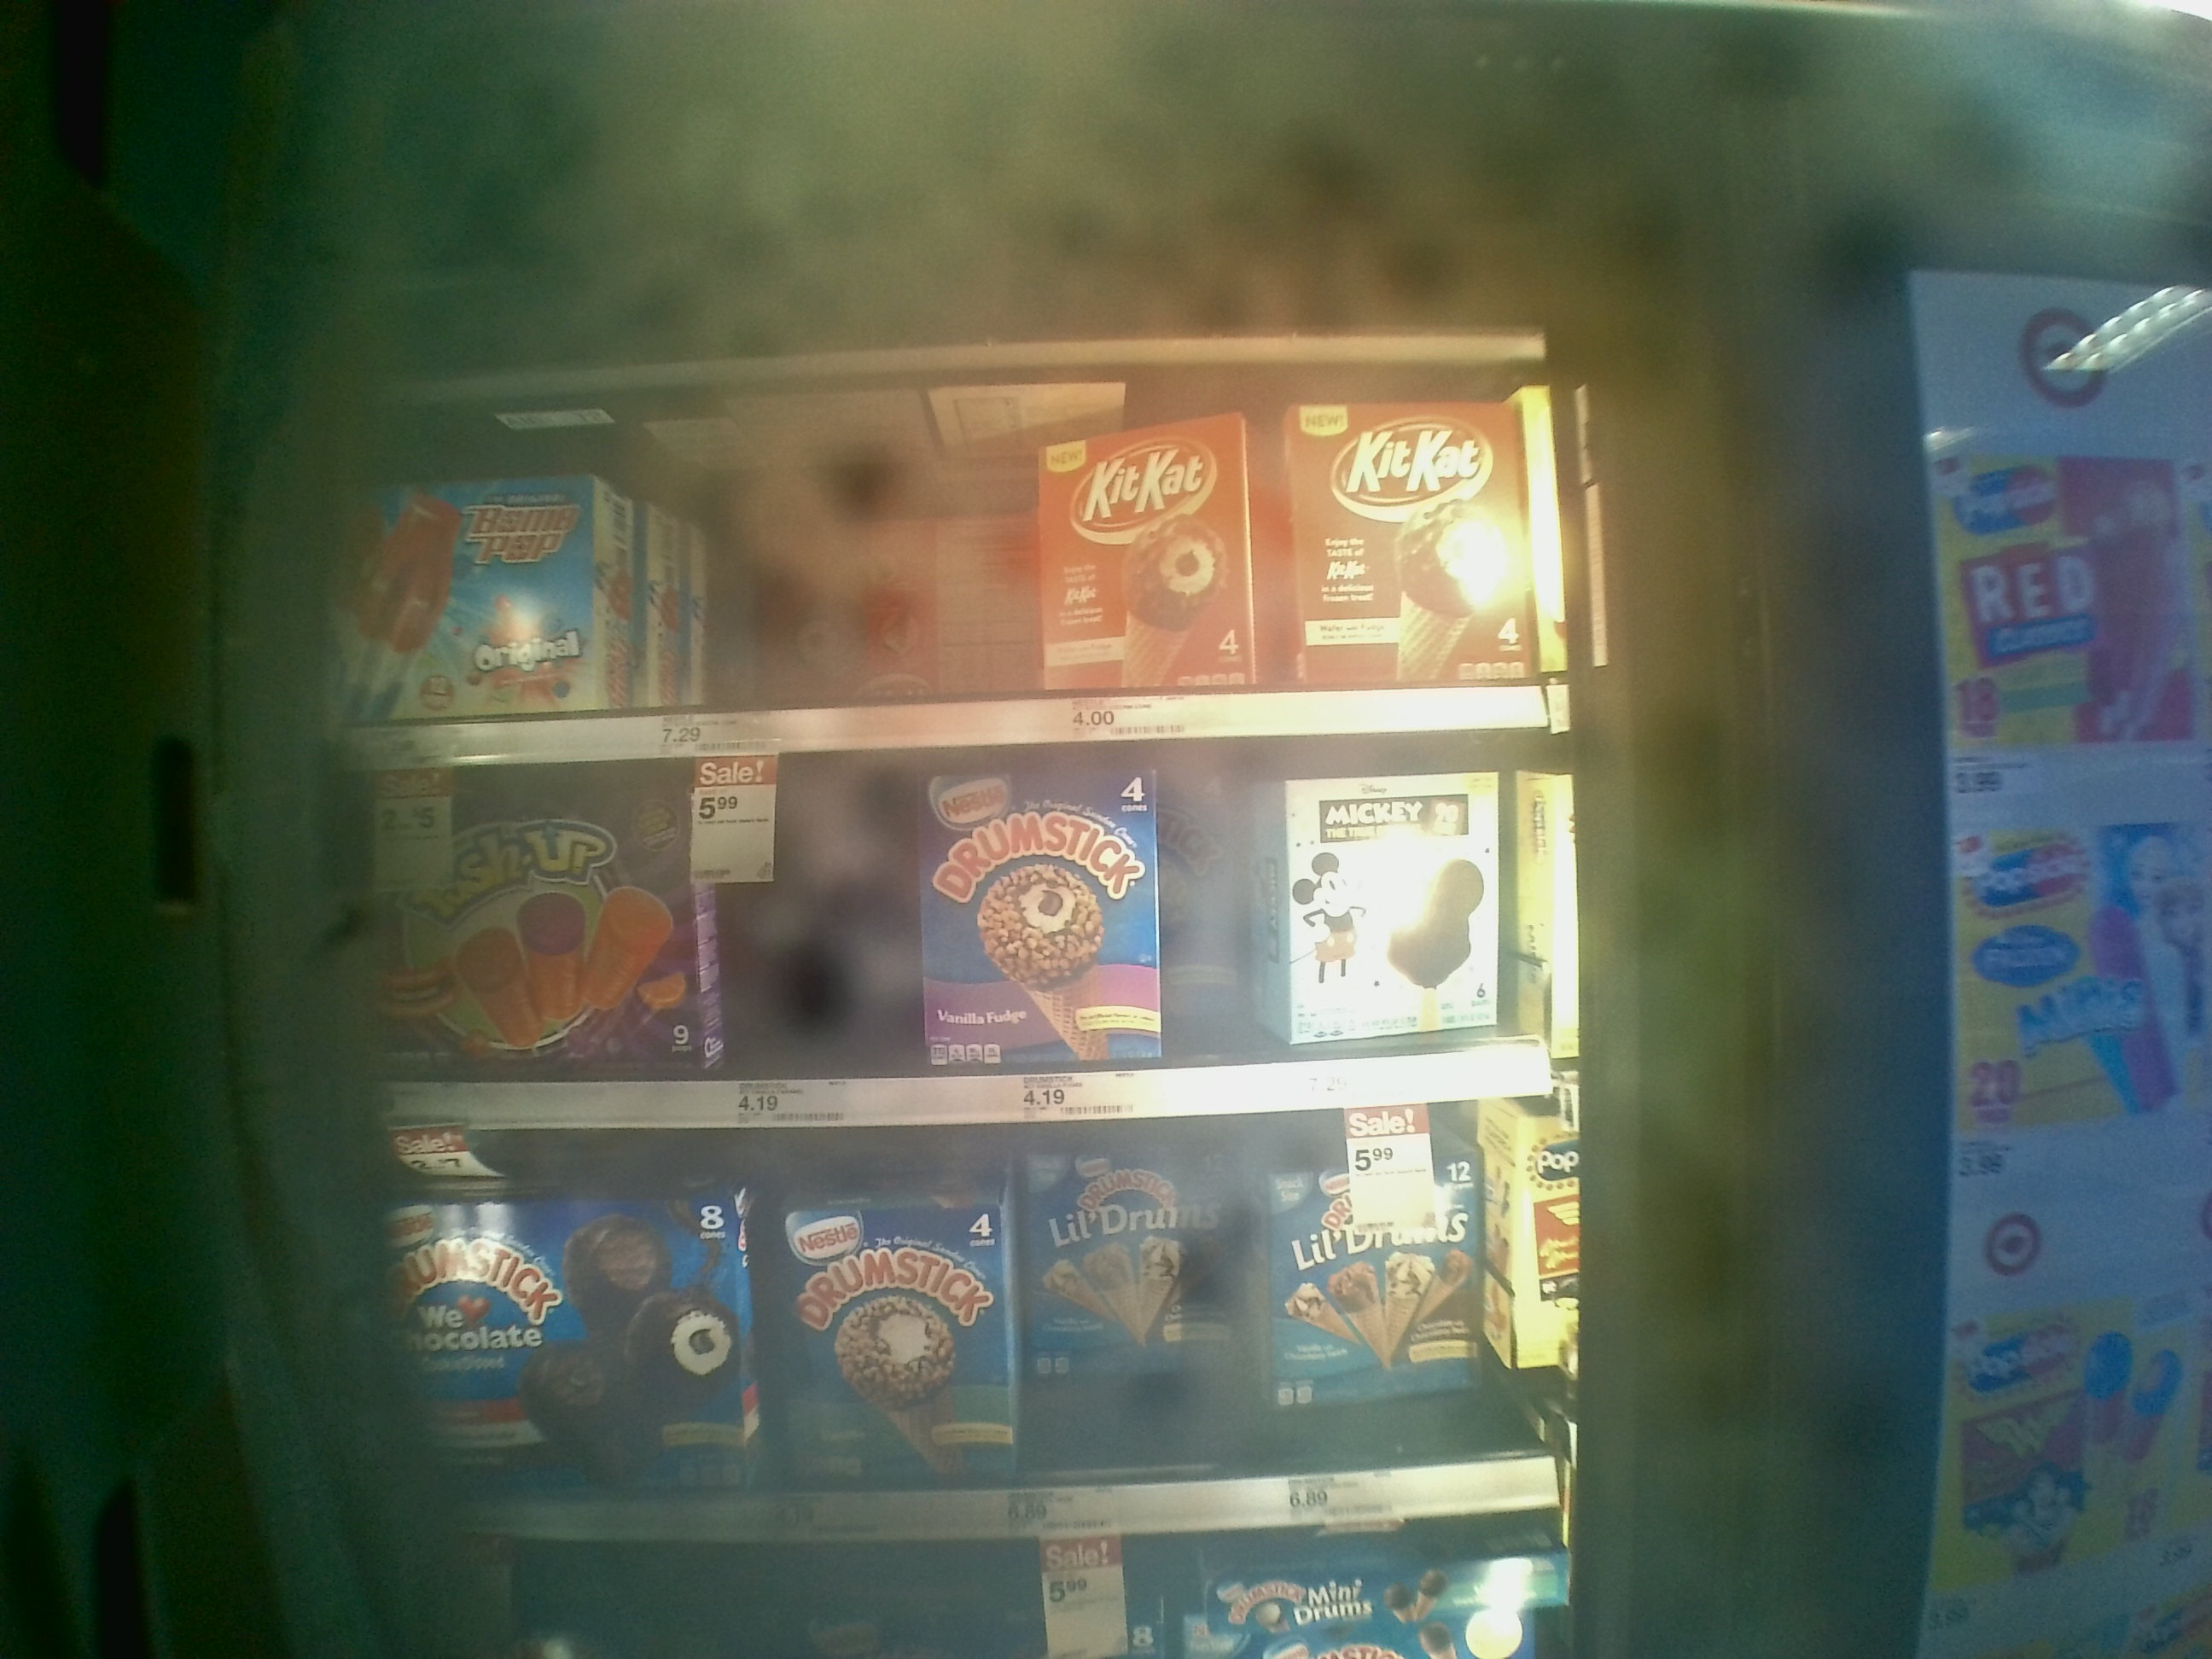shelf: (310, 1098, 1581, 1542), (319, 723, 1578, 1126), (314, 404, 1601, 767)
